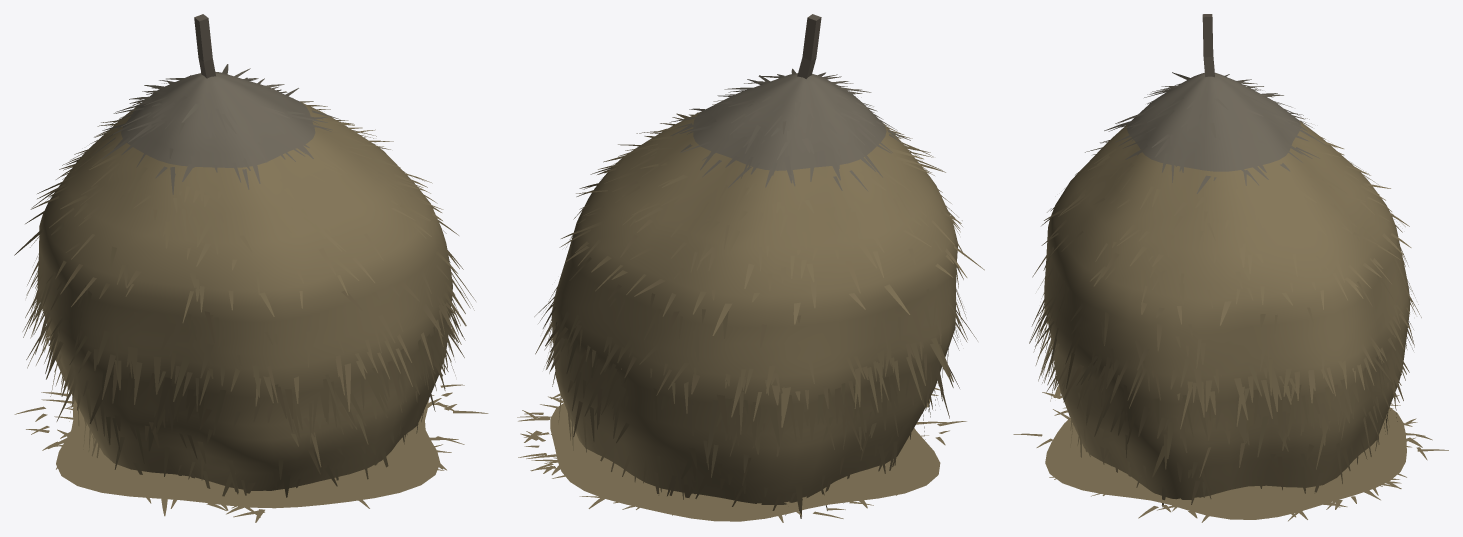
File: lees_place_haystack_1812_b__lees_place_1812.glb
3 renders of one model, left to right at view 1: azimuth 30°, elevation 25°; view 2: azimuth 150°, elevation 25°; view 3: azimuth 270°, elevation 25°, orthographic. The views are drawn at different scales.
Parts seen in each view (by area): view 1: lees_place_haystack_1812_b__lees_place_1812; view 2: lees_place_haystack_1812_b__lees_place_1812; view 3: lees_place_haystack_1812_b__lees_place_1812.
Boxes of the visible parts, x1,y1,x2,y2 form: lees_place_haystack_1812_b__lees_place_1812: (14,14,488,522); lees_place_haystack_1812_b__lees_place_1812: (517,14,984,522); lees_place_haystack_1812_b__lees_place_1812: (1013,14,1448,522).
Size of the model in its own units: 4.65 by 4.86 by 4.66.
